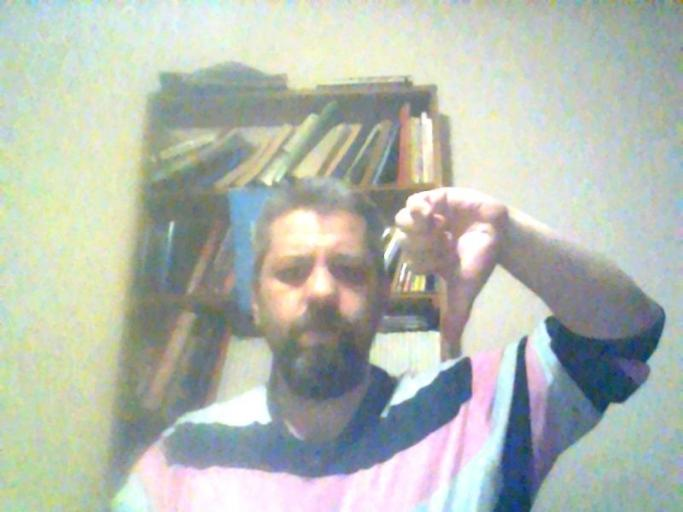dislike: (390, 181, 509, 353)
